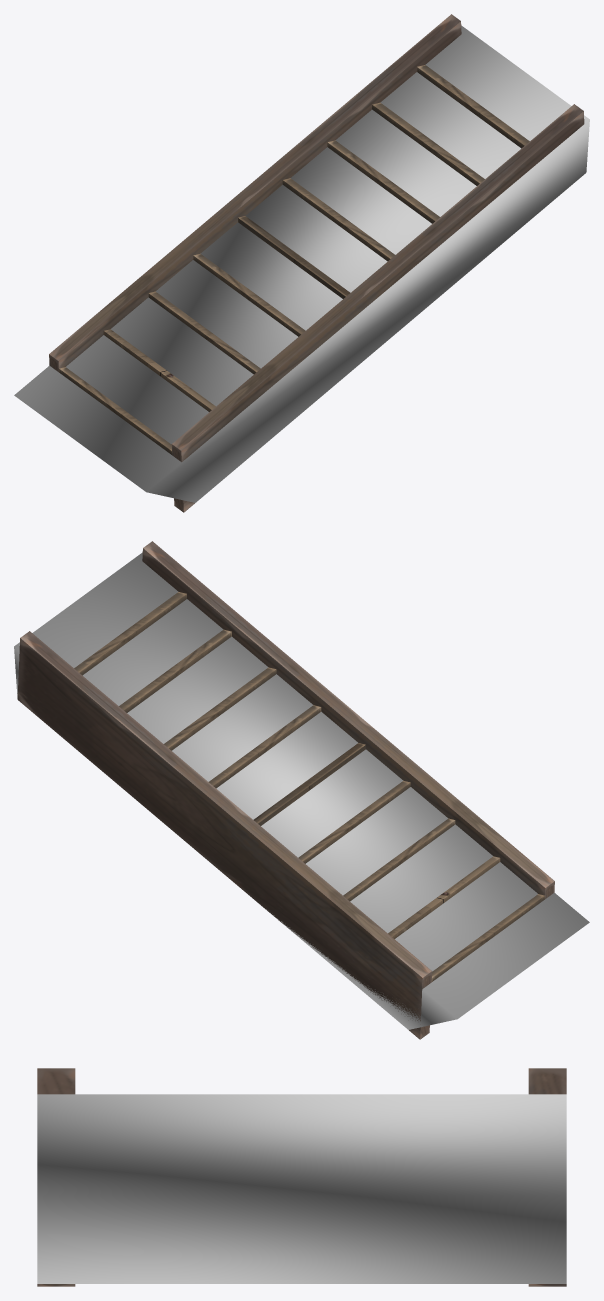
Rendered from fenceWalk_stairs03.FBX.
The picture shows the model from 3 angles, top to bottom: view 1: azimuth 30°, elevation 25°; view 2: azimuth 150°, elevation 25°; view 3: azimuth 270°, elevation 25°; orthographic projection. The views are drawn at different scales.
Visible parts, largest first — view 1: fenceWalk_stairs03_COL, fenceWalk_stairs03; view 2: fenceWalk_stairs03_COL, fenceWalk_stairs03; view 3: fenceWalk_stairs03_COL, fenceWalk_stairs03.
Boxes of the visible parts, left/top/right/bottom form: fenceWalk_stairs03_COL: left=14, top=25, right=589, bottom=502; fenceWalk_stairs03: left=49, top=14, right=584, bottom=512; fenceWalk_stairs03_COL: left=14, top=552, right=589, bottom=1029; fenceWalk_stairs03: left=17, top=541, right=554, bottom=1039; fenceWalk_stairs03_COL: left=37, top=1094, right=566, bottom=1283; fenceWalk_stairs03: left=37, top=1068, right=566, bottom=1286.
Bounding box in the file's own units: 269 × 176 × 139.
